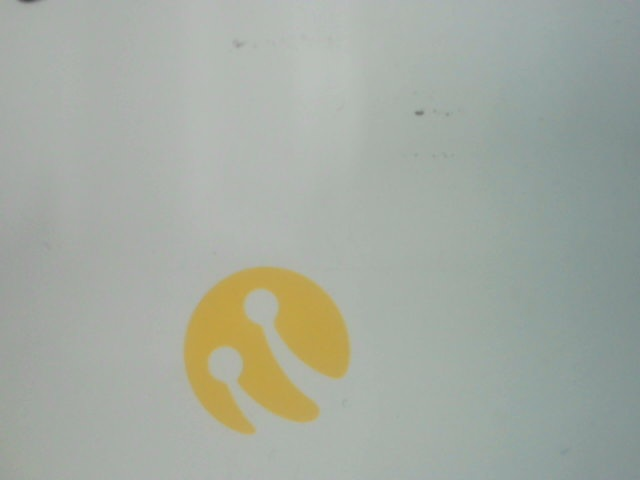AV_H3600Yellow: (164, 260, 381, 440)
